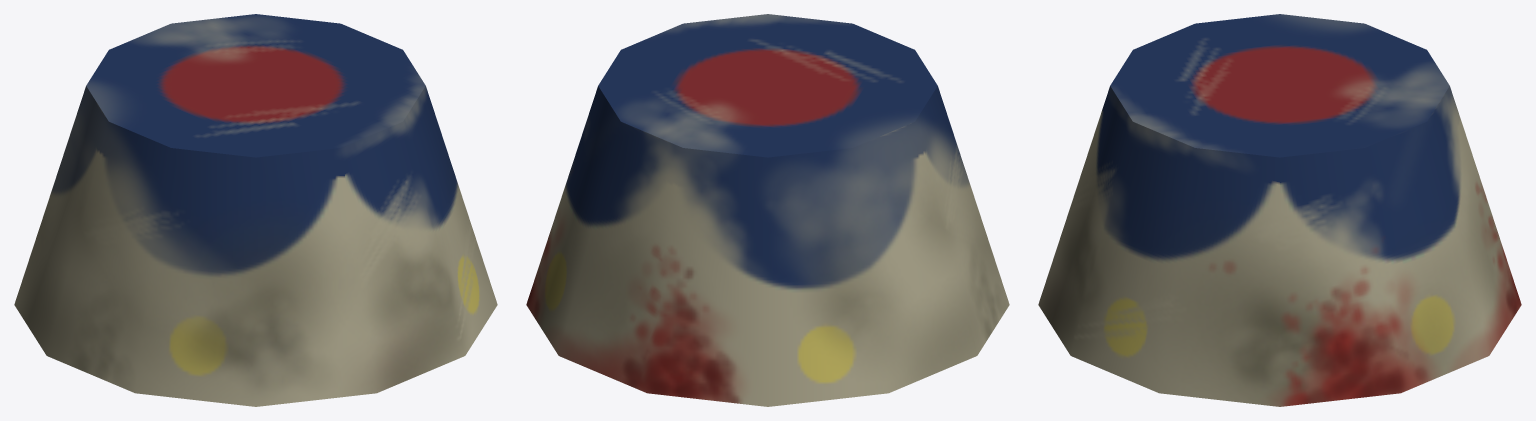
File: Prop_Plinth.glb
The picture shows the model from 3 angles, left to right: view 1: azimuth 30°, elevation 25°; view 2: azimuth 150°, elevation 25°; view 3: azimuth 270°, elevation 25°; orthographic projection.
Visible parts, largest first — view 1: Cylinder; view 2: Cylinder; view 3: Cylinder.
Boxes of the visible parts, x1=… form: Cylinder: x1=14, y1=14, x2=497, y2=406; Cylinder: x1=526, y1=14, x2=1009, y2=406; Cylinder: x1=1038, y1=14, x2=1521, y2=406.
Size of the model in its own units: 1 by 0.5 by 1.
1 material, 1 textured.
